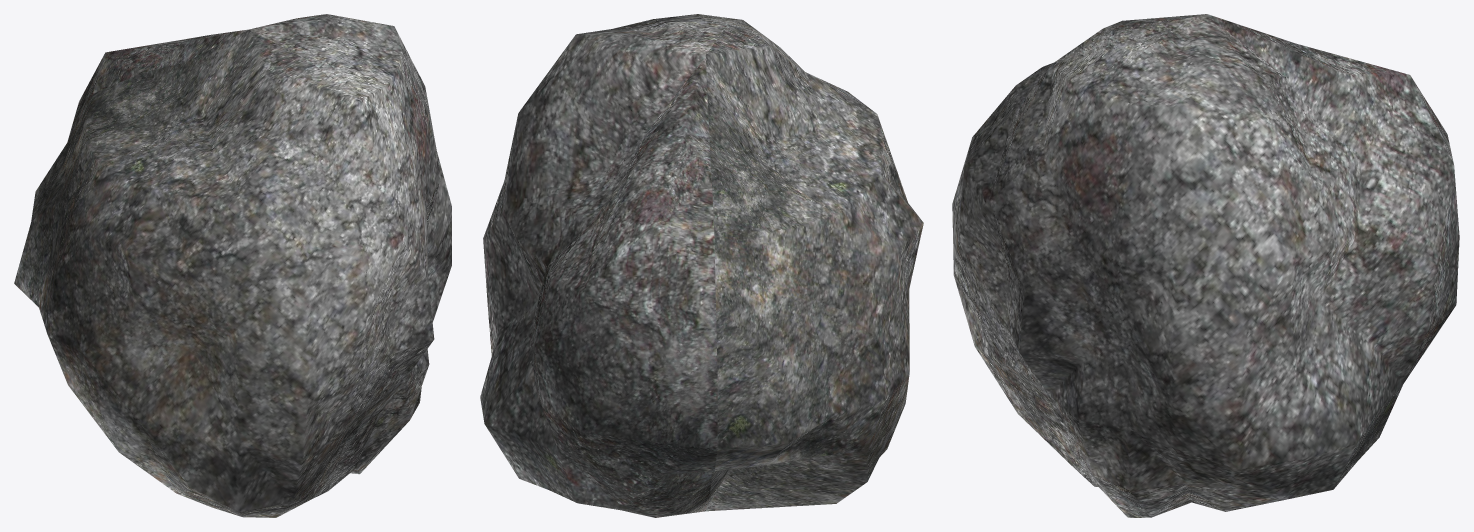
Rendered from rock2.fbx.
The picture shows the model from 3 angles, left to right: view 1: azimuth 30°, elevation 25°; view 2: azimuth 150°, elevation 25°; view 3: azimuth 270°, elevation 25°; orthographic projection. The views are drawn at different scales.
Parts seen in each view (by area): view 1: rock2; view 2: rock2; view 3: rock2.
Boxes of the visible parts, x1,y1,x2,y2 form: rock2: [14, 14, 451, 517]; rock2: [480, 14, 923, 517]; rock2: [952, 14, 1459, 517].
Bounding box in the file's own units: 9.1 × 10.05 × 9.82.
